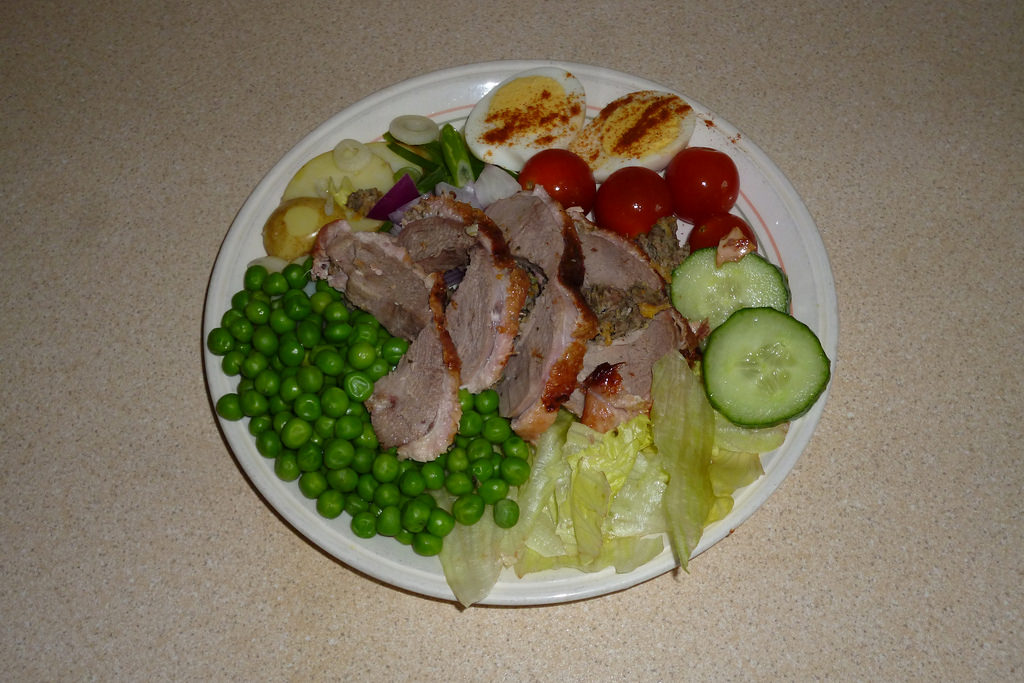boiled peas: (240, 292, 378, 474)
fried egg: (468, 59, 681, 154)
